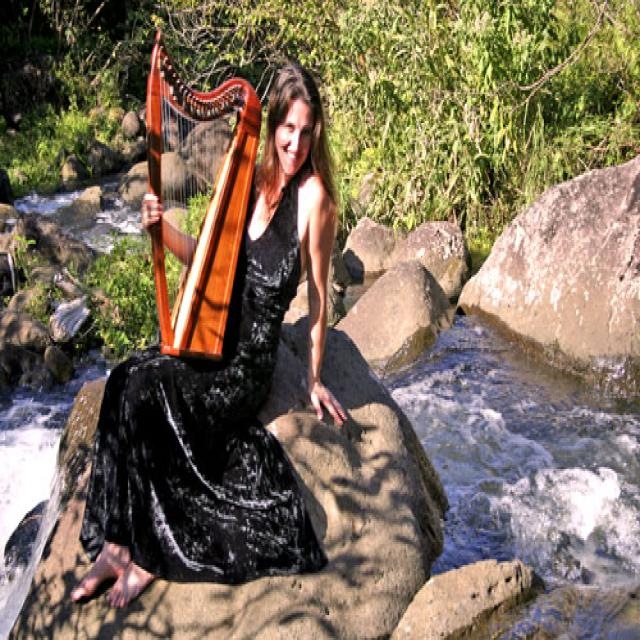harp: (136, 29, 264, 370)
